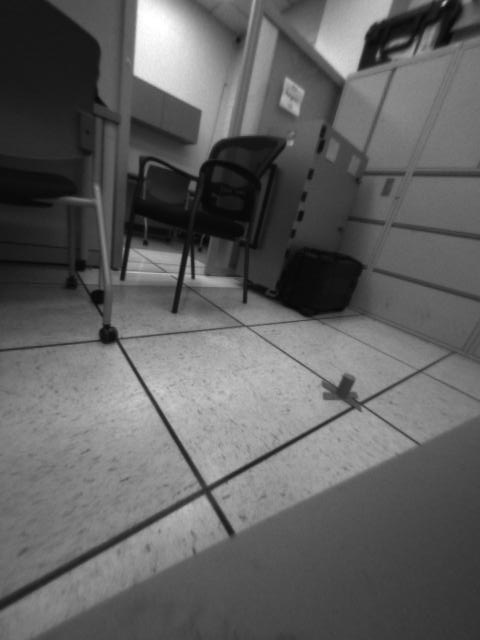X: (316, 371, 366, 413)
